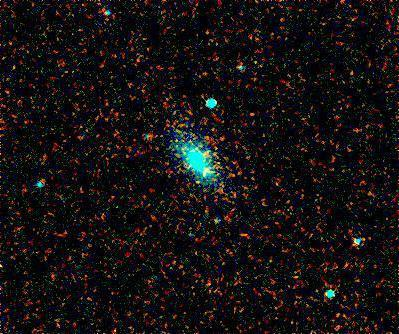star: (205, 125, 235, 155)
